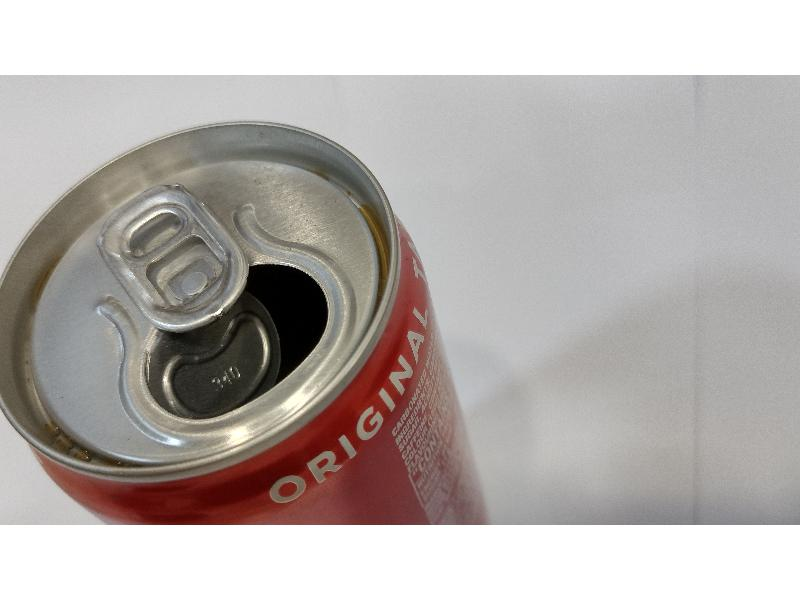can: (1, 109, 500, 521)
